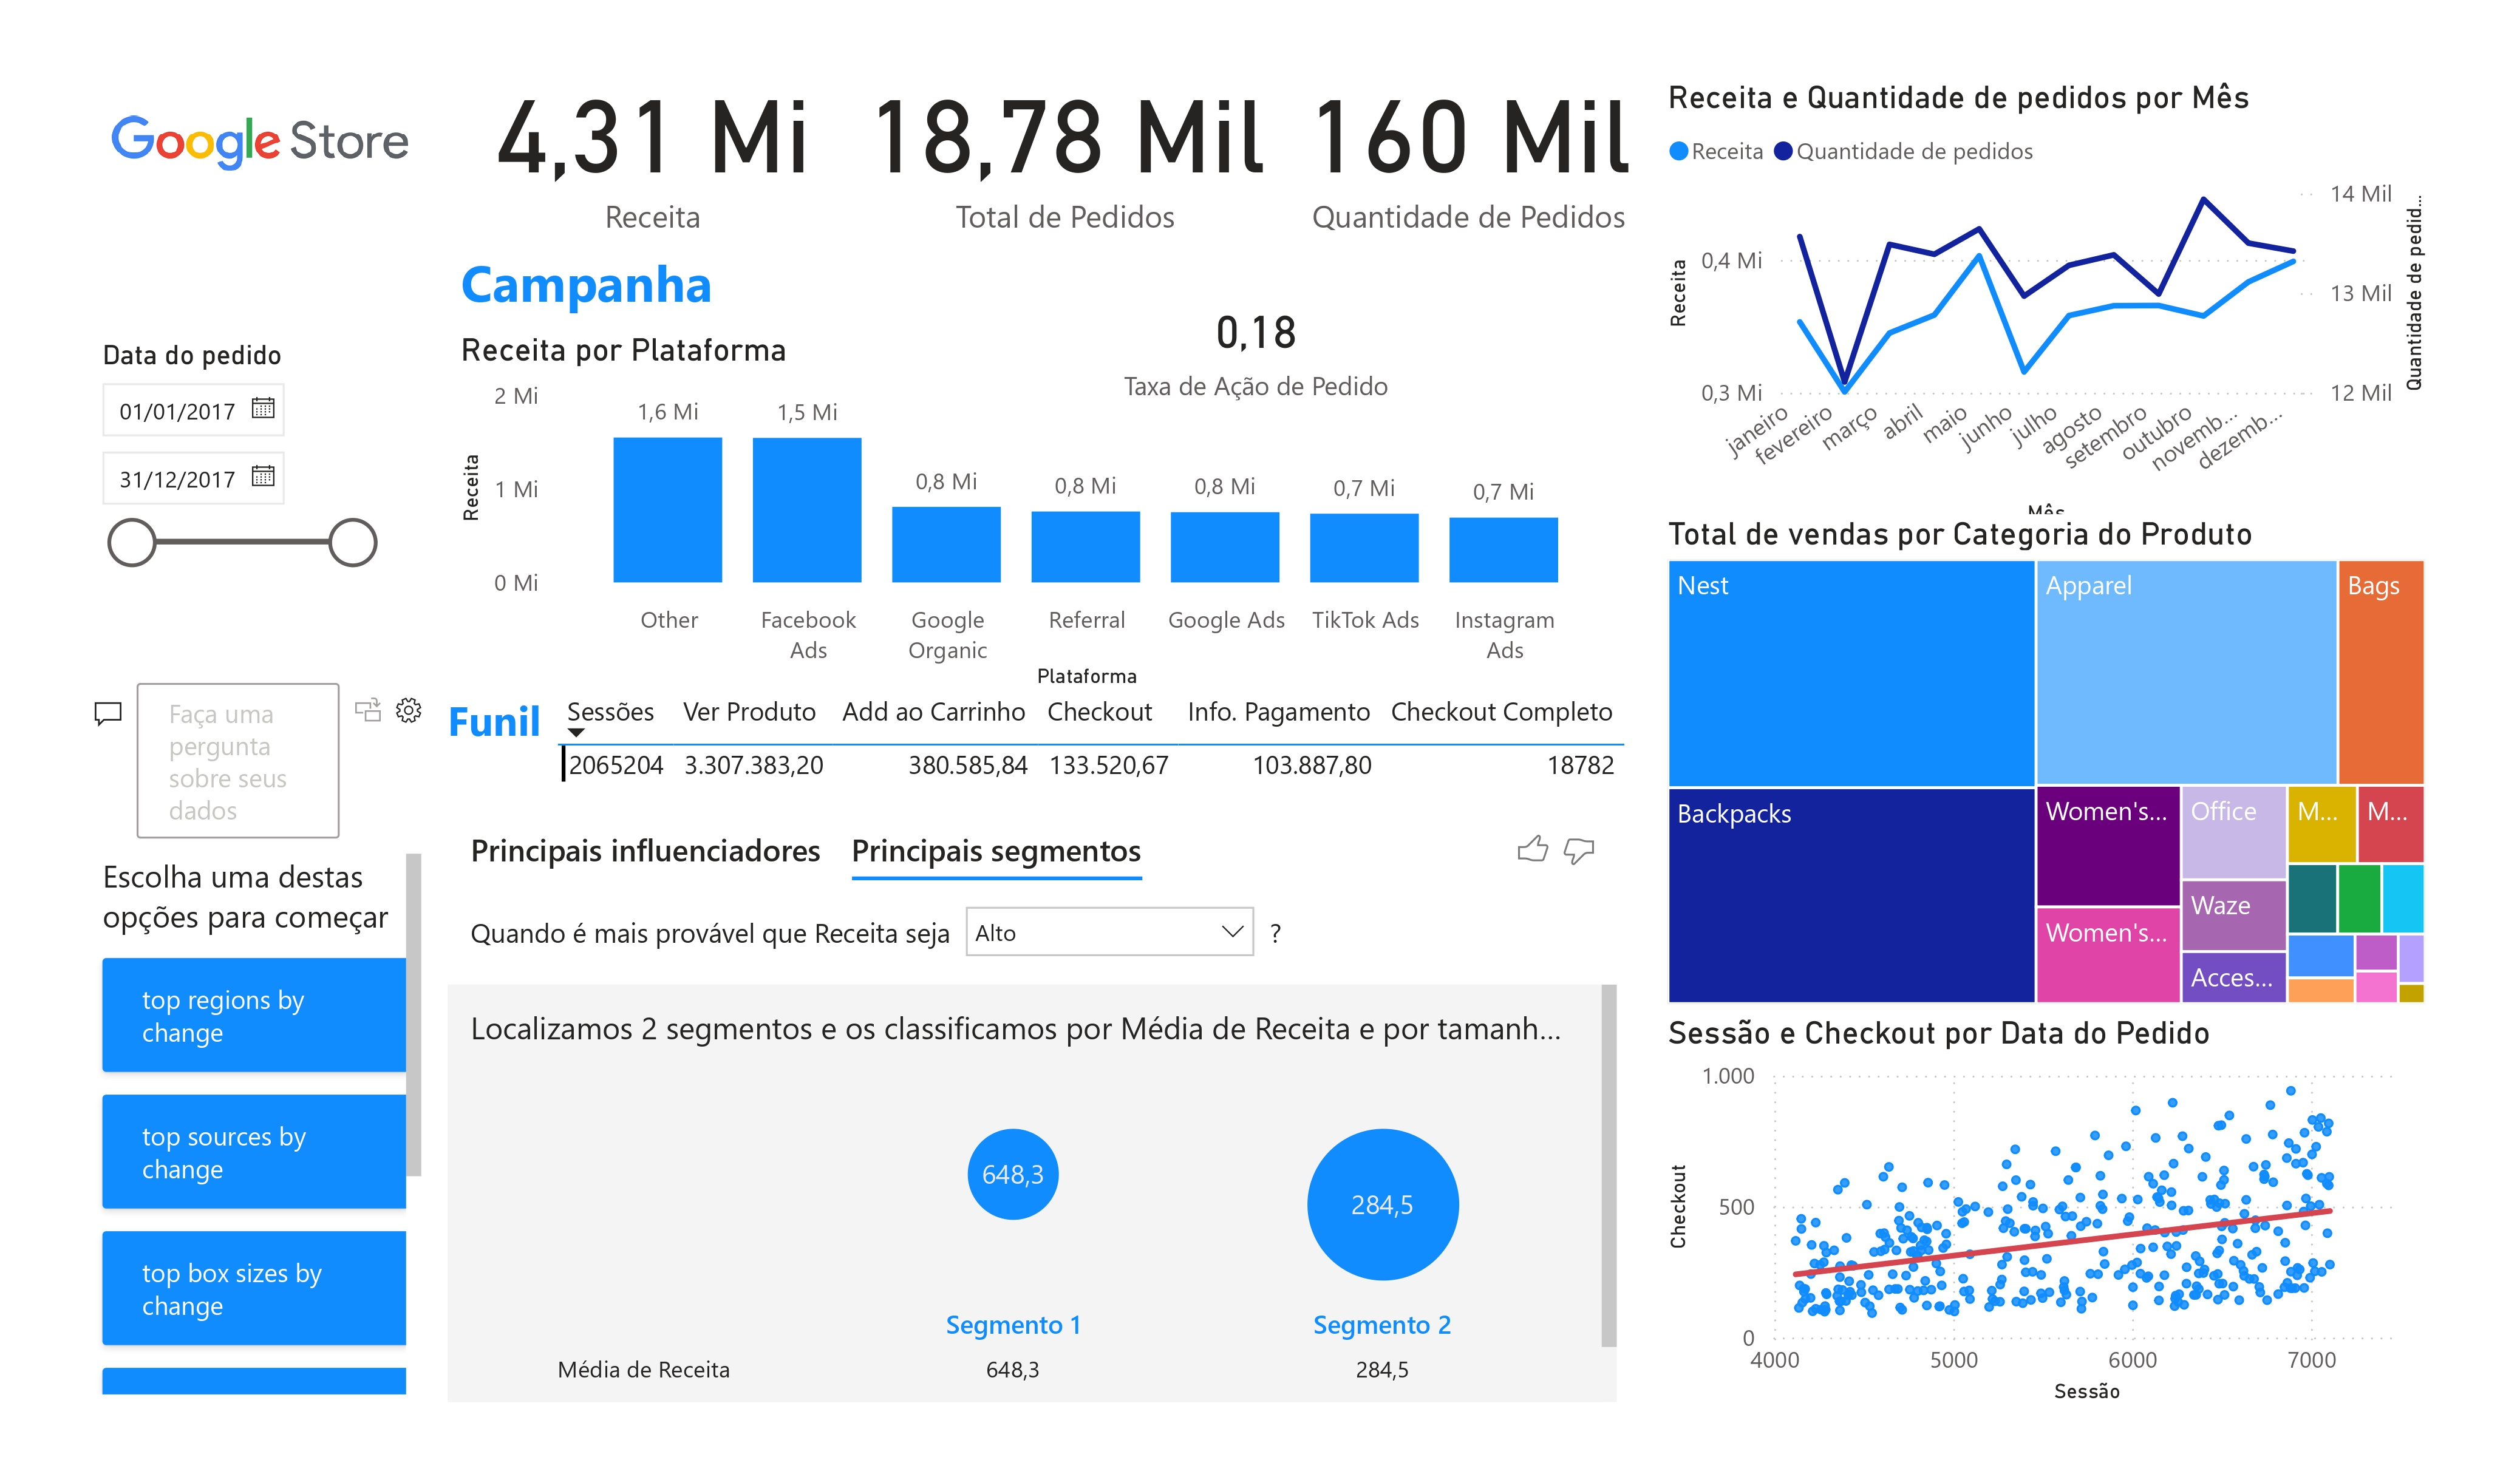

What the dashboard file says about the page in this screenshot:
{"tool":"powerbi","page":{"name":"Visão Geral","canvas":[1280,720],"ordinal":0},"visuals":[{"type":"textbox","box":[207.1,335.7,72.9,64.3],"z":0},{"type":"image","box":[30,22.9,165.7,55.7],"z":1000},{"type":"card","fields":{"Values":["Sum(Sales.Revenue)"]},"box":[214.3,0,211.4,102.9],"z":2000},{"type":"card","fields":{"Values":["CountNonNull(Sales.Order ID)"]},"box":[425.7,0,222.9,102.9],"z":3000},{"type":"card","fields":{"Values":["Sum(Sales.Order Quantity)"]},"box":[653.1,0,193.5,103.3],"z":4000},{"type":"lineChart","fields":{"Category":["Sales.Order Date.Variation.Hierarquia de datas.Mês"],"Y":["Sum(Sales.Revenue)"],"Y2":["Sum(Sales.Order Quantity)"]},"box":[850,17.1,408.6,240],"z":5000},{"type":"textbox","box":[214.3,101.4,181.4,48.6],"z":6000},{"type":"clusteredColumnChart","fields":{"Category":["Sales.Source"],"Y":["Sum(Sales.Total)"]},"box":[214.3,150,618.6,192.9],"z":7000},{"type":"tableEx","fields":{"Values":["Sum(funnel.Sessions)","Sum(funnel.Product views)","Sum(funnel.add to cart)","Sum(funnel.checkout)","Sum(funnel.Payment Info)","Sum(funnel.Complete Checkout)"]},"box":[264,336,585.9,63.5],"z":8000},{"type":"treemap","fields":{"Values":["Sum(Sales.Total)"],"Group":["Sales.Product Category"]},"box":[850,247.1,408.6,262.9],"z":9000},{"type":"slicer","fields":{"Values":["Sales.Order Date"]},"box":[17.1,150,165.7,161.4],"z":10000},{"type":"card","fields":{"Values":["Ads.Tax order to cart"]},"box":[557.1,125.1,161.5,66.9],"z":11000},{"type":"scatterChart","fields":{"X":["Sum(funnel.Sessions)"],"Category":["funnel.Order Date"],"Y":["Sum(funnel.checkout)"]},"box":[850,510,408.6,210],"z":12000},{"type":"keyDriversVisual","fields":{"Target":["Sales.Revenue"],"ExplainBy":["Sales.Product Category"]},"box":[207.1,400,625.7,320],"z":13000},{"type":"qnaVisual","box":[17.1,311.4,190,408.6],"z":14000}]}

Visuals, with their boxes in screenshot pixels (x1, y1, x2, y2):
textbox: locate(438, 682, 577, 804)
image: locate(103, 89, 417, 195)
card - Sum(Sales.Revenue): locate(452, 46, 853, 241)
card - CountNonNull(Sales.Order ID): locate(853, 46, 1276, 241)
card - Sum(Sales.Order Quantity): locate(1285, 46, 1652, 242)
lineChart - Sales.Order Date.Variation.Hierarquia de datas.Mês x Sum(Sales.Revenue): locate(1658, 78, 2434, 533)
textbox: locate(452, 238, 797, 330)
clusteredColumnChart - Sales.Source x Sum(Sales.Total): locate(452, 330, 1626, 696)
tableEx - Sum(funnel.Sessions) x Sum(funnel.Product views): locate(547, 683, 1658, 803)
treemap - Sum(Sales.Total) x Sales.Product Category: locate(1658, 514, 2434, 1013)
slicer - Sales.Order Date: locate(78, 330, 392, 636)
card - Ads.Tax order to cart: locate(1103, 283, 1409, 410)
scatterChart - Sum(funnel.Sessions) x funnel.Order Date: locate(1658, 1013, 2434, 1411)
keyDriversVisual - Sales.Revenue x Sales.Product Category: locate(438, 804, 1626, 1411)
qnaVisual: locate(78, 636, 438, 1411)
